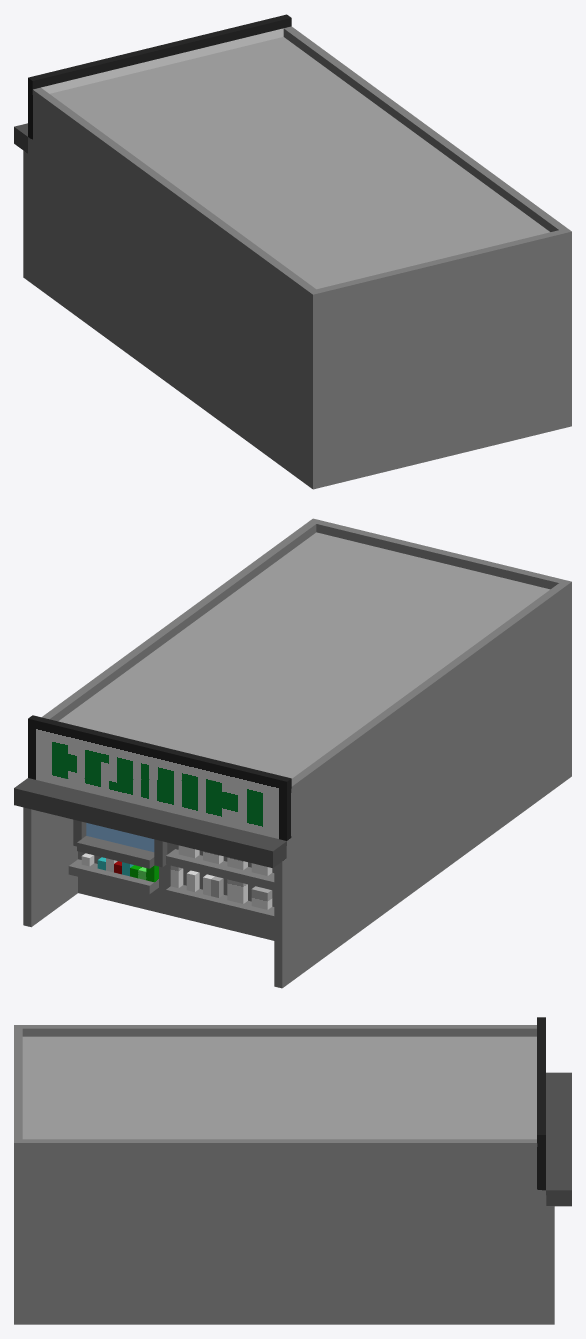
The model's file is obj_store09.fbx.
The picture shows the model from 3 angles, top to bottom: view 1: azimuth 30°, elevation 25°; view 2: azimuth 150°, elevation 25°; view 3: azimuth 270°, elevation 25°; orthographic projection. The views are drawn at different scales.
Parts seen in each view (by area): view 1: obj_store09; view 2: obj_store09; view 3: obj_store09.
Boxes of the visible parts, bbox=[...] form: obj_store09: bbox=[14, 14, 571, 489]; obj_store09: bbox=[14, 518, 571, 988]; obj_store09: bbox=[14, 1017, 571, 1324].
Size of the model in its own units: 3.2 by 6.4 by 2.4.
1 material, 1 textured.
